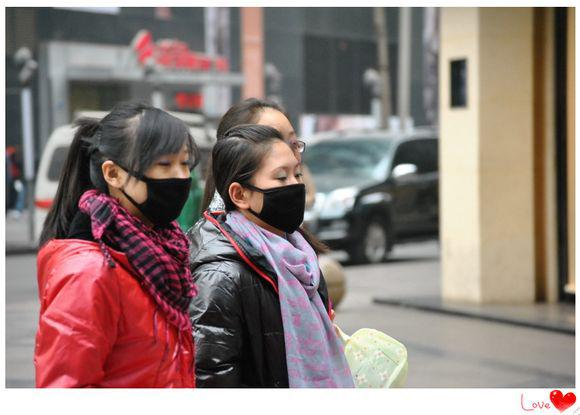OK: (245, 163, 307, 230)
WRONG: (127, 144, 199, 216)
